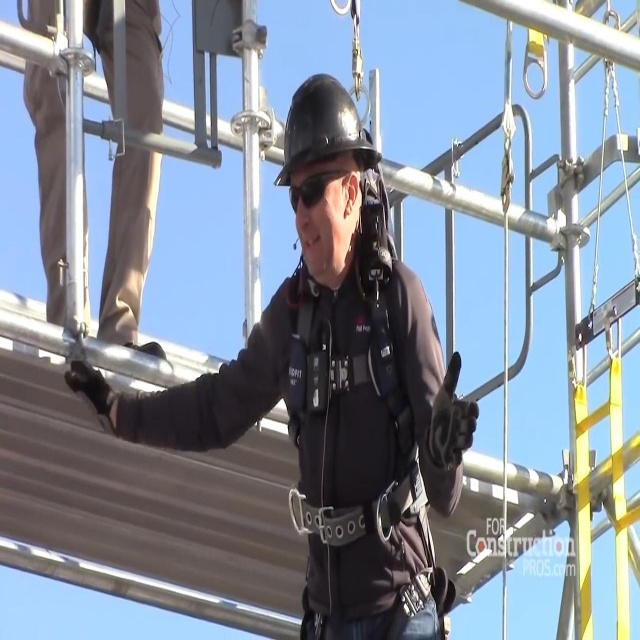Arnes_seguridad: (269, 117, 437, 640)
